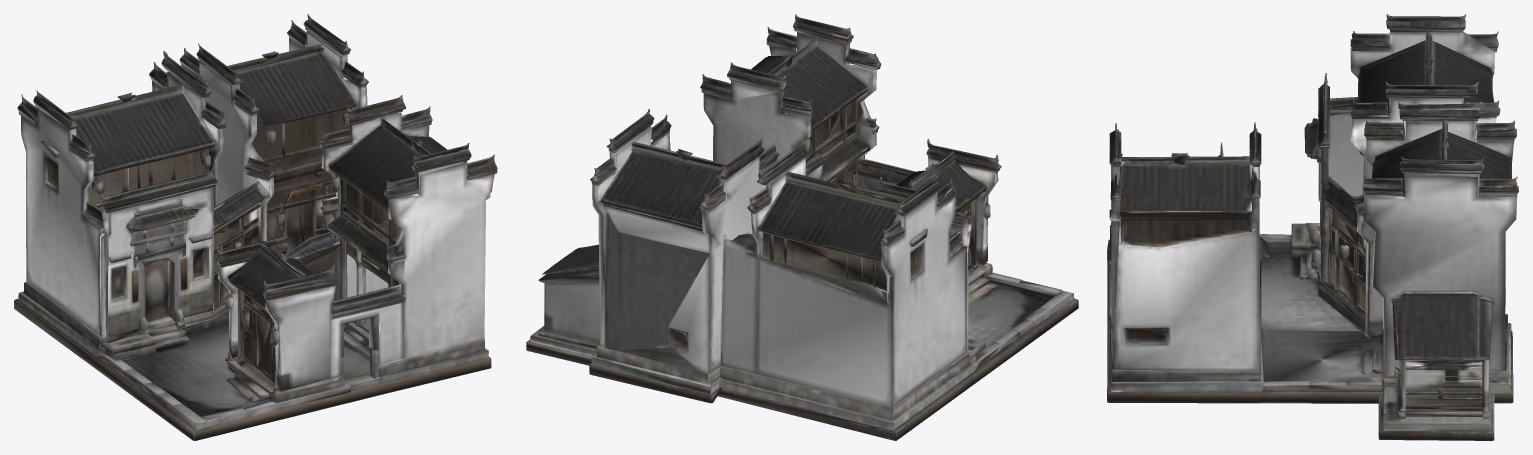
File: doushan_street.glb
3 renders of one model, left to right at view 1: azimuth 30°, elevation 25°; view 2: azimuth 150°, elevation 25°; view 3: azimuth 270°, elevation 25°, orthographic. The views are drawn at different scales.
Size of the model in its own units: 0.9561 by 0.5635 by 0.8638.
1 material, 1 textured.
